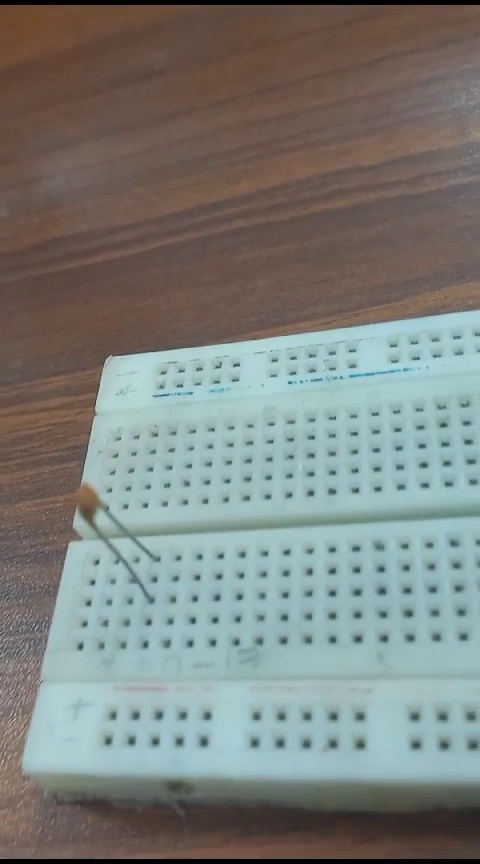ceramic capacitor: (74, 481, 154, 607)
